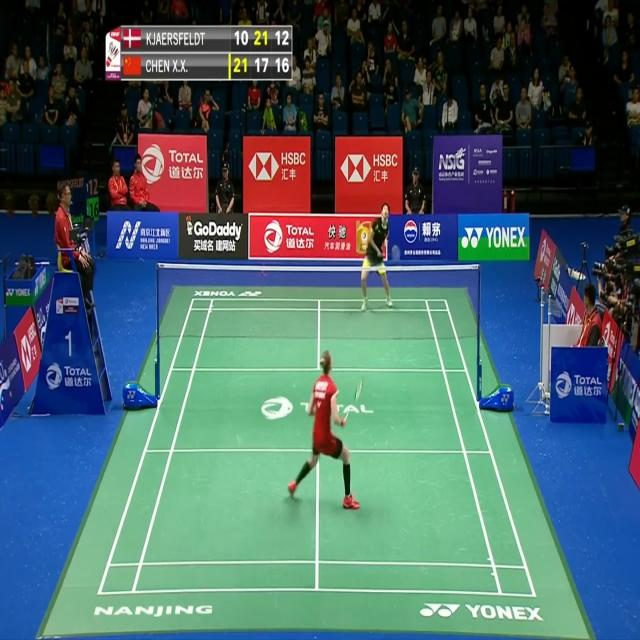Player1: (285, 346, 368, 517)
Player2: (357, 197, 400, 315)
